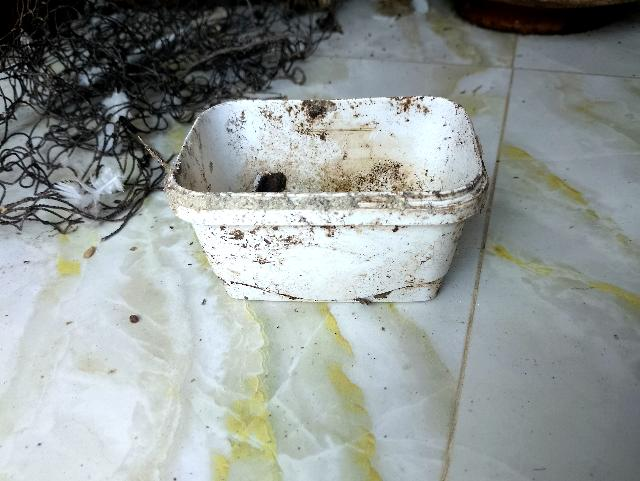hardplastic: (194, 79, 499, 311)
